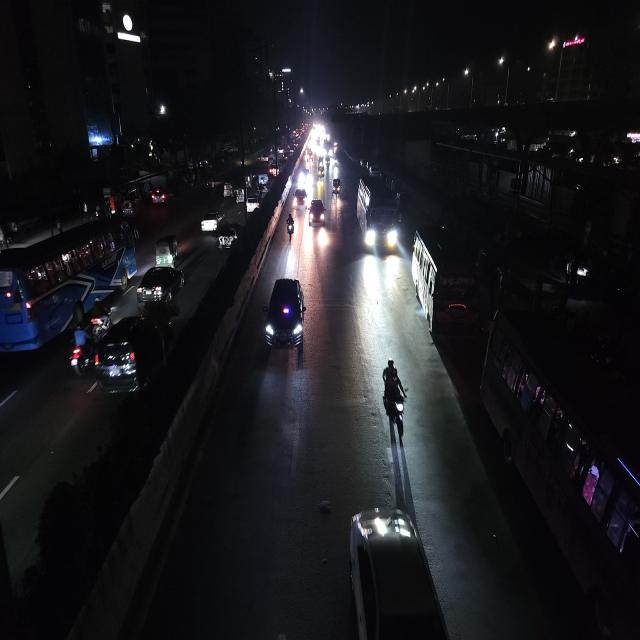bus: (485, 308, 639, 640), (0, 214, 138, 358), (410, 222, 480, 336), (354, 174, 403, 256)
car: (344, 504, 458, 640), (95, 311, 171, 406), (263, 273, 308, 357), (136, 262, 187, 314), (215, 221, 239, 253), (307, 196, 327, 229), (200, 210, 224, 233), (292, 186, 308, 210), (246, 190, 260, 214)
cng: (152, 231, 180, 265), (330, 177, 342, 200), (235, 181, 246, 203), (222, 180, 234, 200), (316, 162, 326, 184)
motorcycle: (378, 352, 413, 443), (66, 323, 92, 378), (284, 212, 296, 244)
truck: (256, 170, 270, 192)
